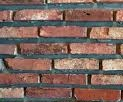brick: (74, 88, 121, 102), (24, 87, 71, 99), (14, 9, 63, 20), (65, 11, 115, 21), (21, 44, 66, 55), (42, 74, 87, 85), (54, 59, 97, 70), (70, 44, 116, 54), (12, 59, 49, 70), (41, 27, 86, 36), (1, 74, 39, 84), (90, 75, 123, 86), (1, 28, 38, 37), (90, 28, 123, 38), (1, 88, 23, 99), (102, 59, 123, 69), (1, 1, 45, 5), (1, 46, 15, 55), (1, 11, 13, 20), (46, 1, 93, 3), (114, 12, 122, 21)
